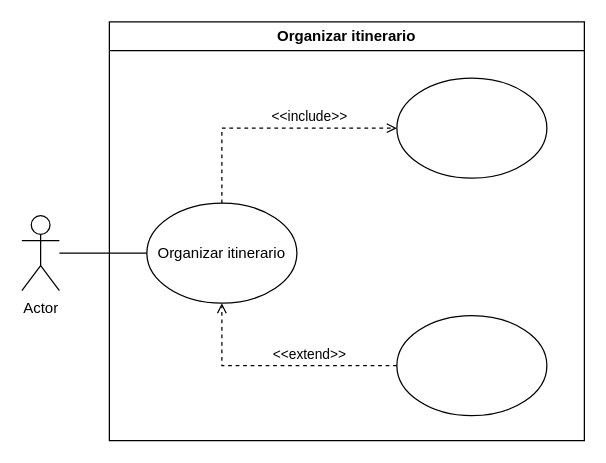
Image size: 606x463. Some labels were removed from this diagram. The shapes that lost their labels are listed below. From the top down, each one's box as (x1, y1, x2, y2) in pixels, then its label:
(396, 77, 547, 178): Visualizar itinerario por dia
(396, 314, 547, 416): Administrar actividades
